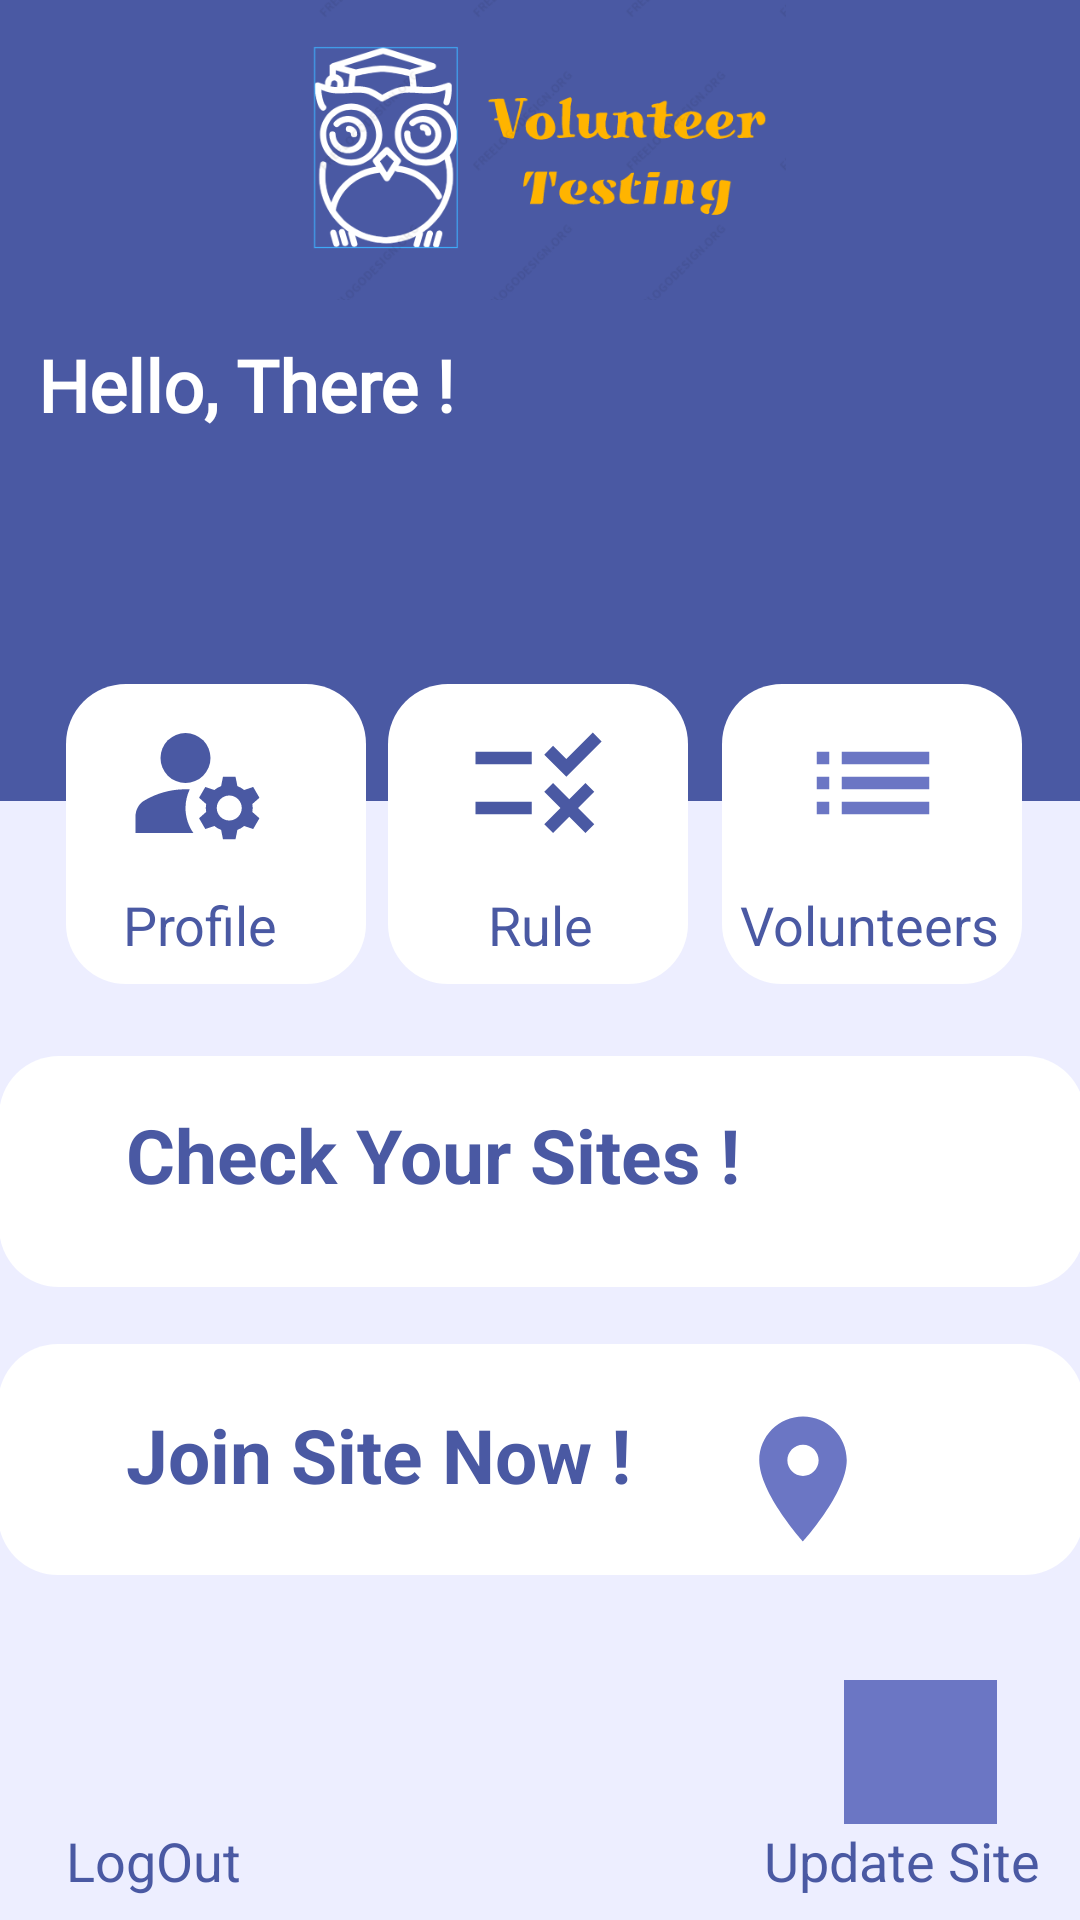

Icon click points for this 1080 x 1920 phone screenshot, format (x=x, y=y):
list: (x=873, y=783)
location: (x=803, y=1478)
manage accounts: (x=197, y=786)
